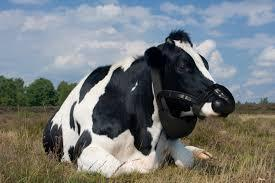cow: (42, 30, 236, 177)
